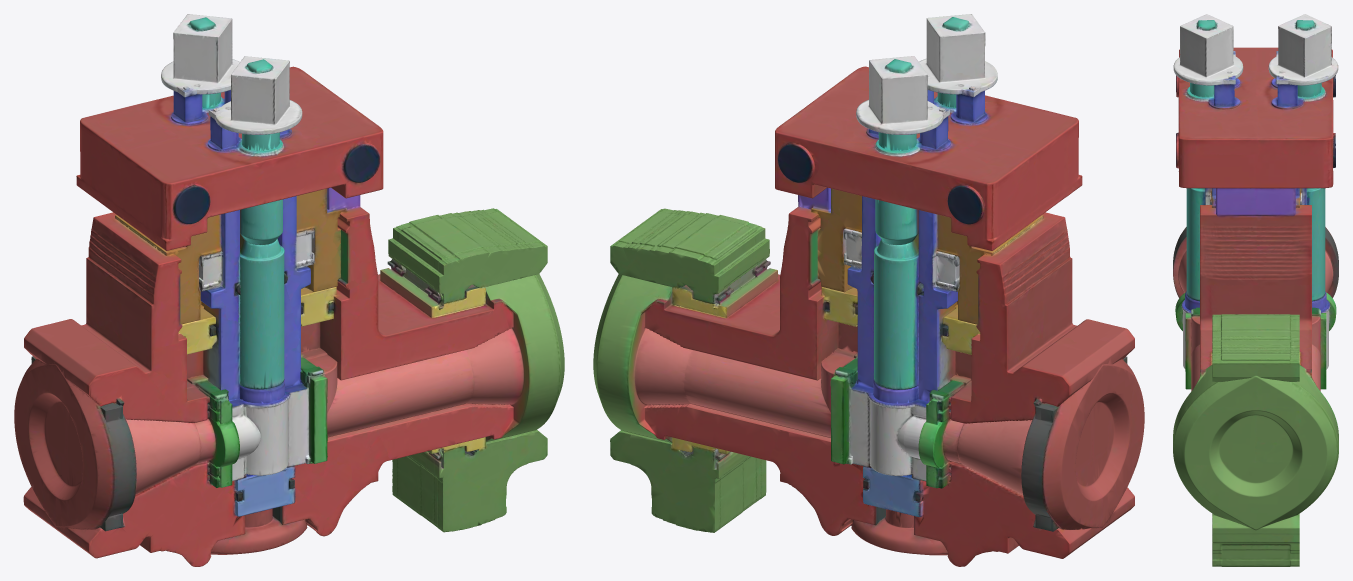
The model's file is valvulaEstrangulacionRegulacion.glb.
3 renders of one model, left to right at view 1: azimuth 30°, elevation 25°; view 2: azimuth 150°, elevation 25°; view 3: azimuth 270°, elevation 25°, orthographic. The views are drawn at different scales.
Visible parts, largest first — view 1: tripo_node_1d2c6cb2-24ac-4bff-bf8a-d2eaf37c8f3b; view 2: tripo_node_1d2c6cb2-24ac-4bff-bf8a-d2eaf37c8f3b; view 3: tripo_node_1d2c6cb2-24ac-4bff-bf8a-d2eaf37c8f3b.
Boxes of the visible parts, x1=… form: tripo_node_1d2c6cb2-24ac-4bff-bf8a-d2eaf37c8f3b: x1=14, y1=14, x2=564, y2=566; tripo_node_1d2c6cb2-24ac-4bff-bf8a-d2eaf37c8f3b: x1=593, y1=14, x2=1144, y2=566; tripo_node_1d2c6cb2-24ac-4bff-bf8a-d2eaf37c8f3b: x1=1173, y1=14, x2=1338, y2=566.
Size of the model in its own units: 0.9221 by 0.9797 by 0.3313.
1 material, 1 textured.
